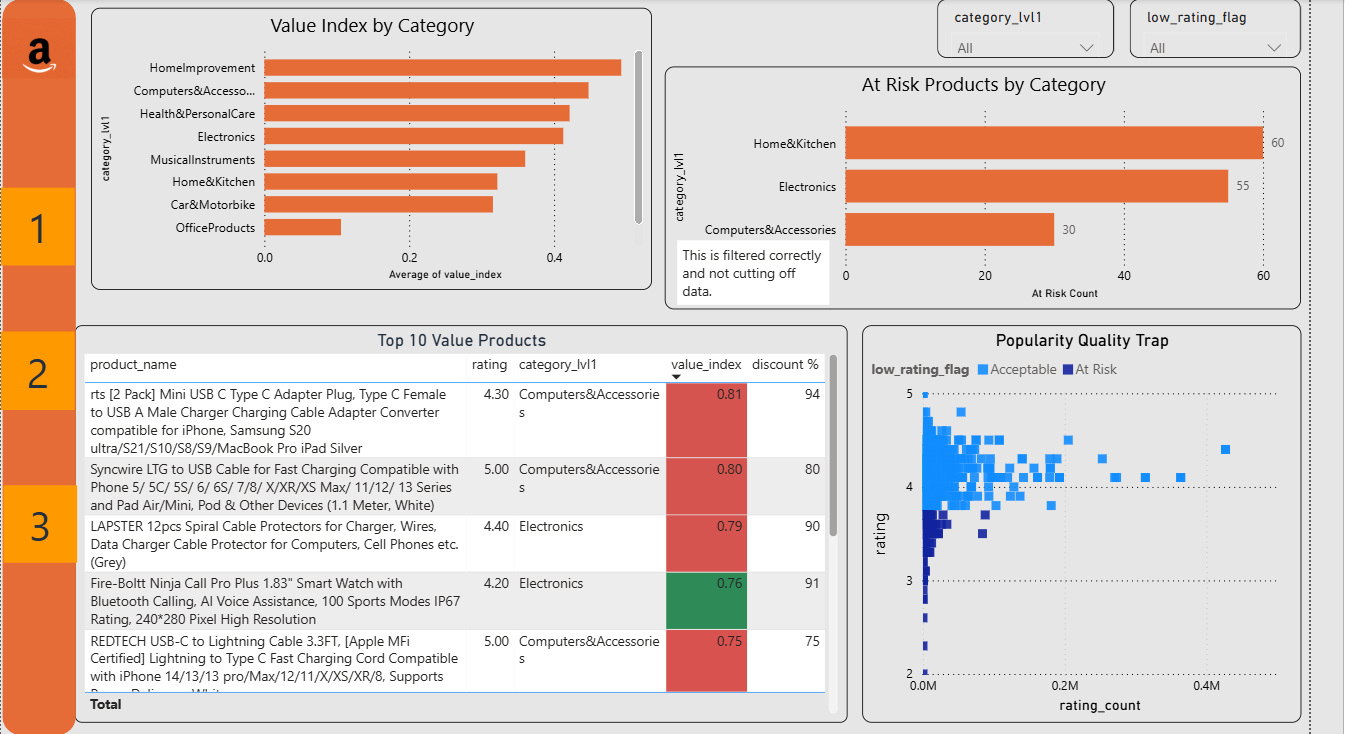

Layout of this report page (visuals, bound fields, positions):
{"tool":"powerbi","page":{"name":"Risk and oppourtinites analysis","canvas":[1280,720],"ordinal":2},"visuals":[{"type":"scatterChart","title":"Popularity Quality Trap","fields":{"X":["amazon cleaned.rating_count"],"Y":["amazon cleaned.rating"],"Series":["amazon cleaned.low_rating_flag"]},"box":[842.5,319.2,429.2,388.9],"z":0},{"type":"slicer","fields":{"Values":["amazon cleaned.category_lvl1"]},"box":[915.9,0,172.4,57.5],"z":1000},{"type":"slicer","fields":{"Values":["amazon cleaned.low_rating_flag"]},"box":[1104.2,0,167.5,57.5],"z":2000},{"type":"clusteredBarChart","title":"At Risk Products by Category","fields":{"Category":["amazon cleaned.category_lvl1"],"Y":["amazon cleaned.At Risk Count"]},"box":[649.3,66,622.4,237.2],"z":3000},{"type":"clusteredBarChart","title":"Value Index by Category","fields":{"Category":["amazon cleaned.category_lvl1"],"Y":["Avg(amazon cleaned.value_index)"]},"box":[88,8.6,549.1,276.4],"z":4000},{"type":"tableEx","title":"Top 10 Value Products","fields":{"Values":["amazon cleaned.product_name","amazon cleaned.rating","amazon cleaned.category_lvl1","amazon cleaned.value_index","amazon cleaned.discount_percentage"]},"box":[72.1,319.2,755.7,388.9],"z":5000},{"type":"textbox","box":[661.6,236,149.2,63.6],"z":6000},{"type":"shape","box":[1.2,0,72.1,720.2],"z":7000},{"type":"image","box":[1.2,0,70.9,96.6],"z":8000},{"type":"shape","box":[0,184.6,72.4,76],"z":9000},{"type":"shape","box":[0,325.3,72.1,77],"z":10000},{"type":"shape","box":[2.4,475.7,72.1,75.8],"z":11000}]}

Visuals, with their boxes on the page's 1280x720 design canvas (x1, y1, x2, y2). These are canvas units, not pixel positions in the 1345x734 screenshot, which may show the page scaled, cropped or inside an application window:
"Popularity Quality Trap" scatterChart: bbox(842, 319, 1272, 708)
slicer - amazon cleaned.category_lvl1: bbox(916, 0, 1088, 58)
slicer - amazon cleaned.low_rating_flag: bbox(1104, 0, 1272, 58)
"At Risk Products by Category" clusteredBarChart: bbox(649, 66, 1272, 303)
"Value Index by Category" clusteredBarChart: bbox(88, 9, 637, 285)
"Top 10 Value Products" tableEx: bbox(72, 319, 828, 708)
textbox: bbox(662, 236, 811, 300)
shape: bbox(1, 0, 73, 720)
image: bbox(1, 0, 72, 97)
shape: bbox(0, 185, 72, 261)
shape: bbox(0, 325, 72, 402)
shape: bbox(2, 476, 74, 552)
